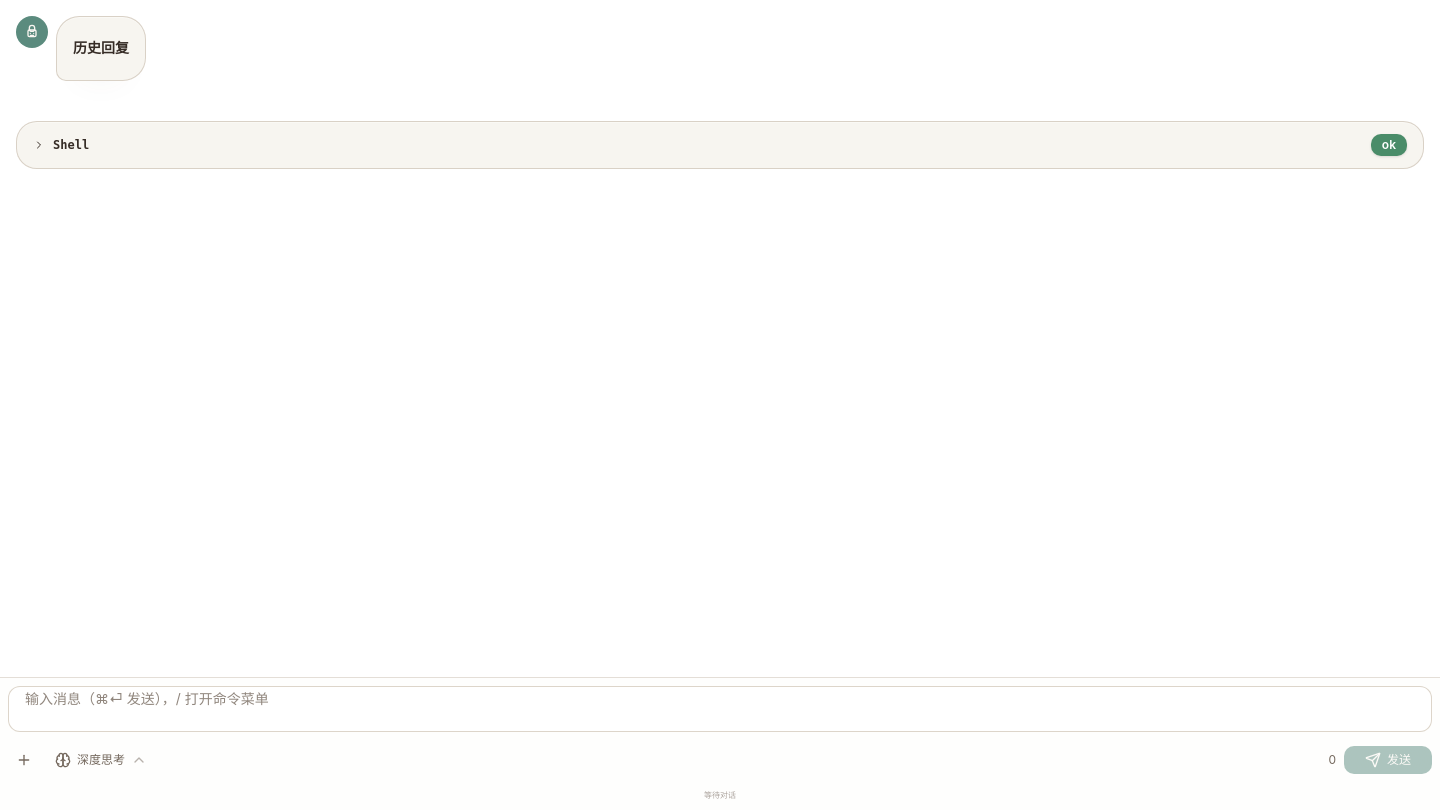
Test: ClaudeCodeView › 历史消息复用通用聊天 renderer，并把 tool_result 合并到工具卡片
expect the text "历史回复" is shown: met, box [73,39,129,56]
Step 1. Click the button "Shell" → (61, 145), box [33,137,89,153]
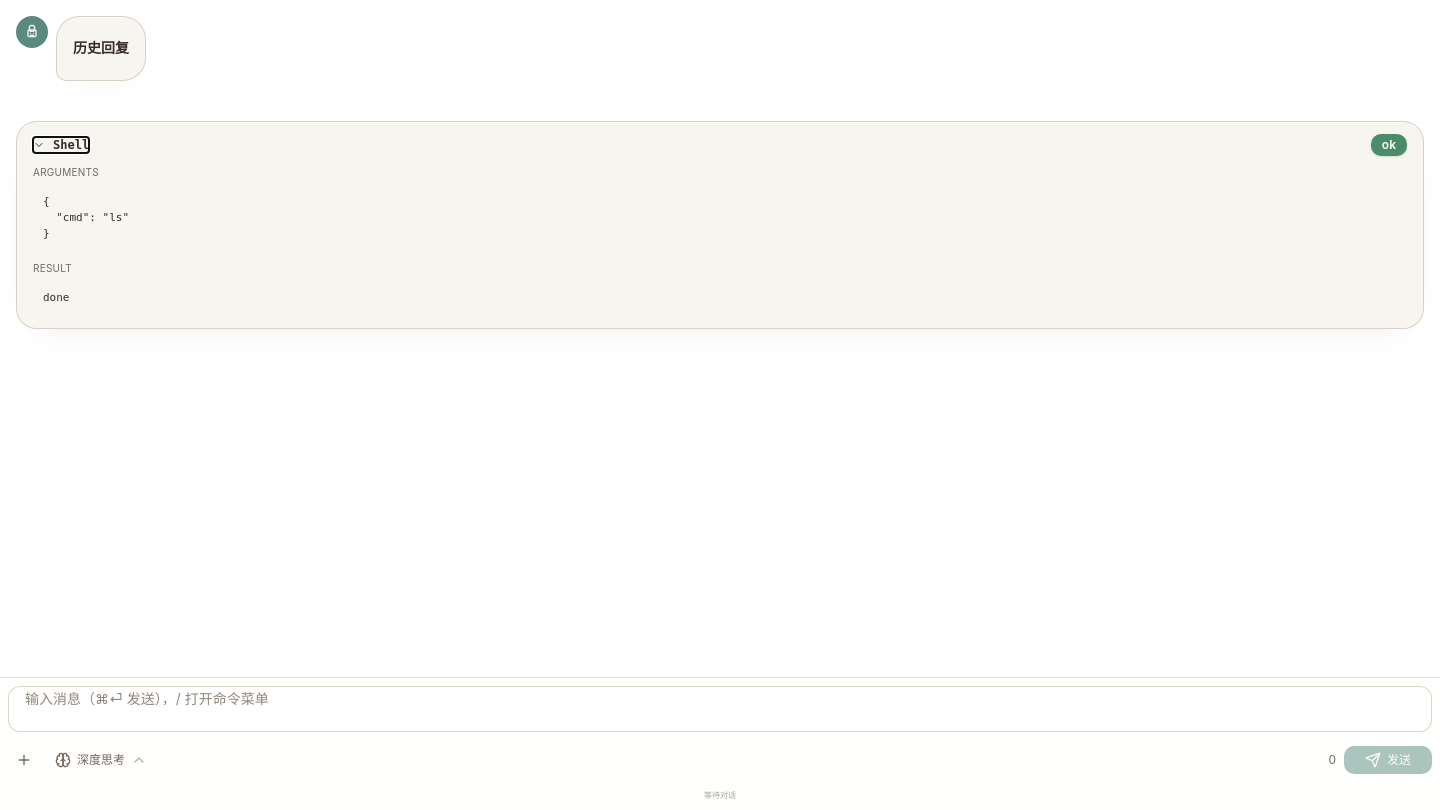
expect the text box named "消息输入" is shown: met, box [8,686,1432,732]
expect the text "done" is shown: met, box [43,291,70,304]
